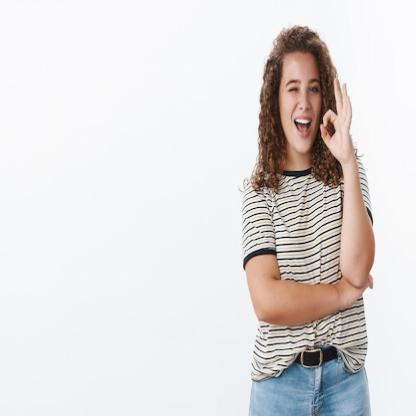ok: (316, 72, 358, 163)
